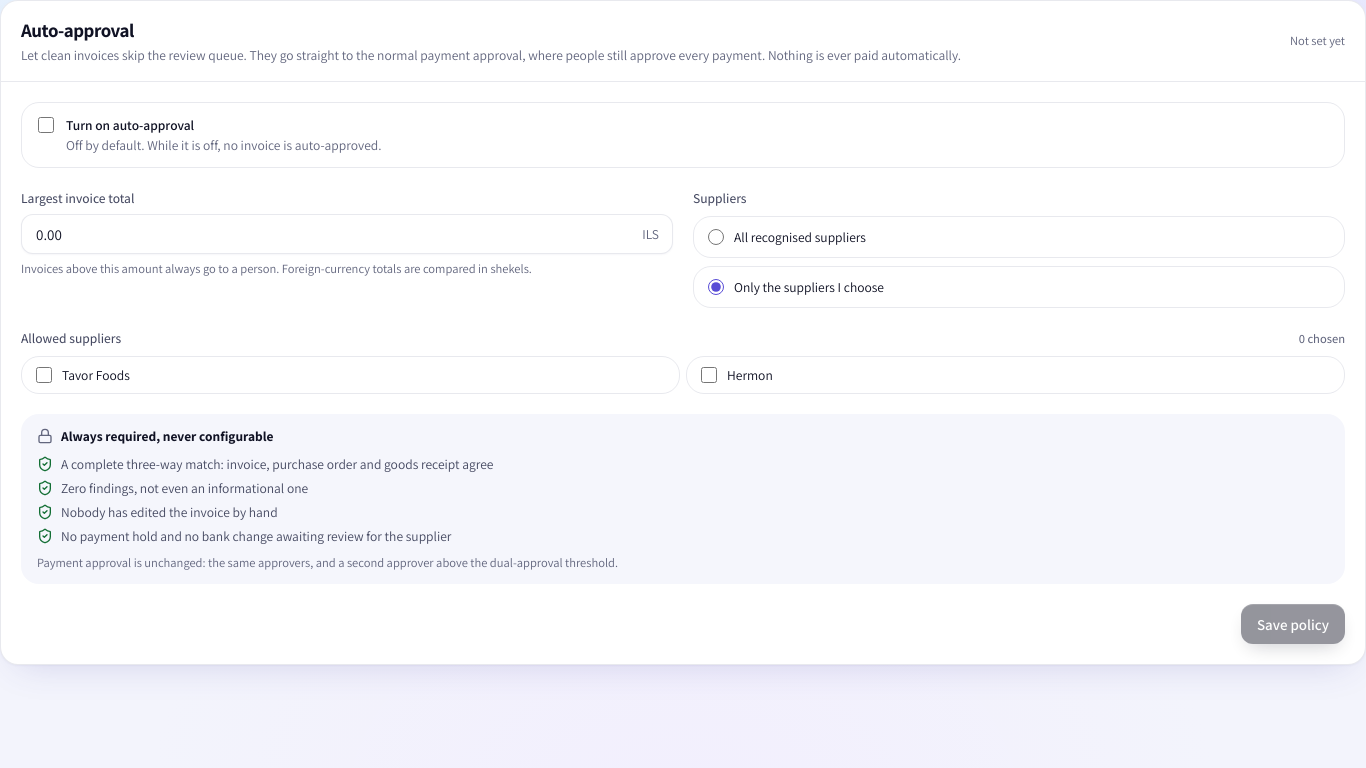
Test: auto-approval settings panel › rejects an amount that is not money before anything is sent
Click the checkbox labelled "Turn on auto-approval" at coordinates (46, 125), box [38, 117, 54, 133]
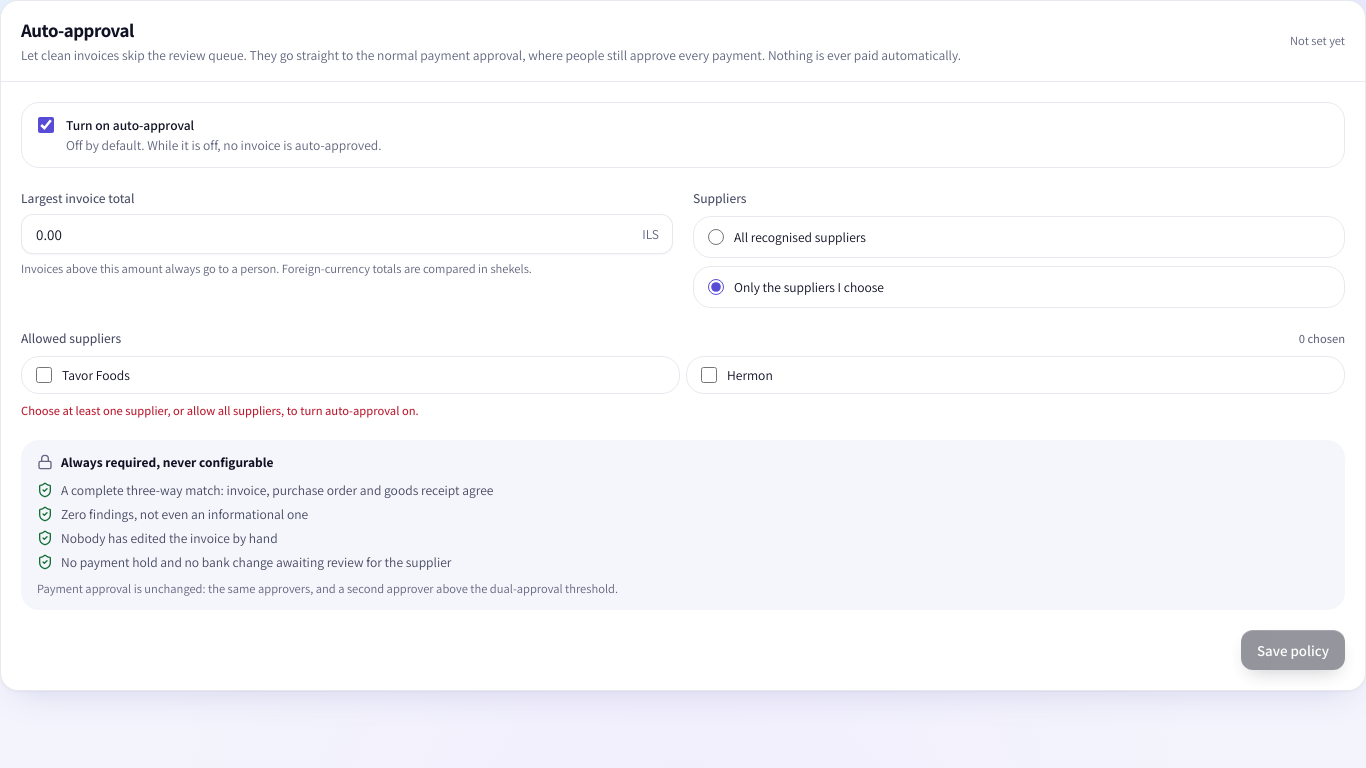
Click the radio button labelled "All recognised suppliers" at coordinates (716, 237), box [708, 229, 724, 245]
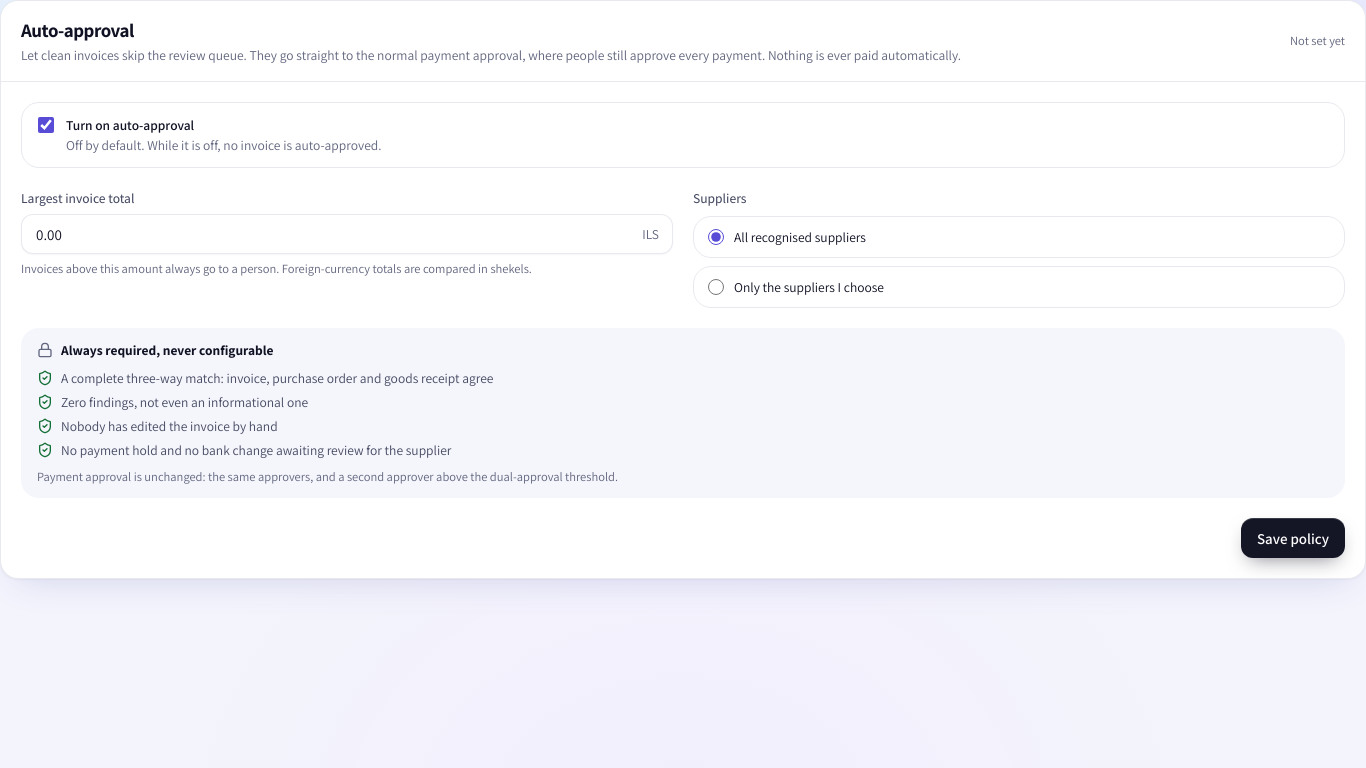
Replace the text in the field labelled "Largest invoice total" with "ten thousand" at coordinates (347, 234), box [21, 214, 673, 254]
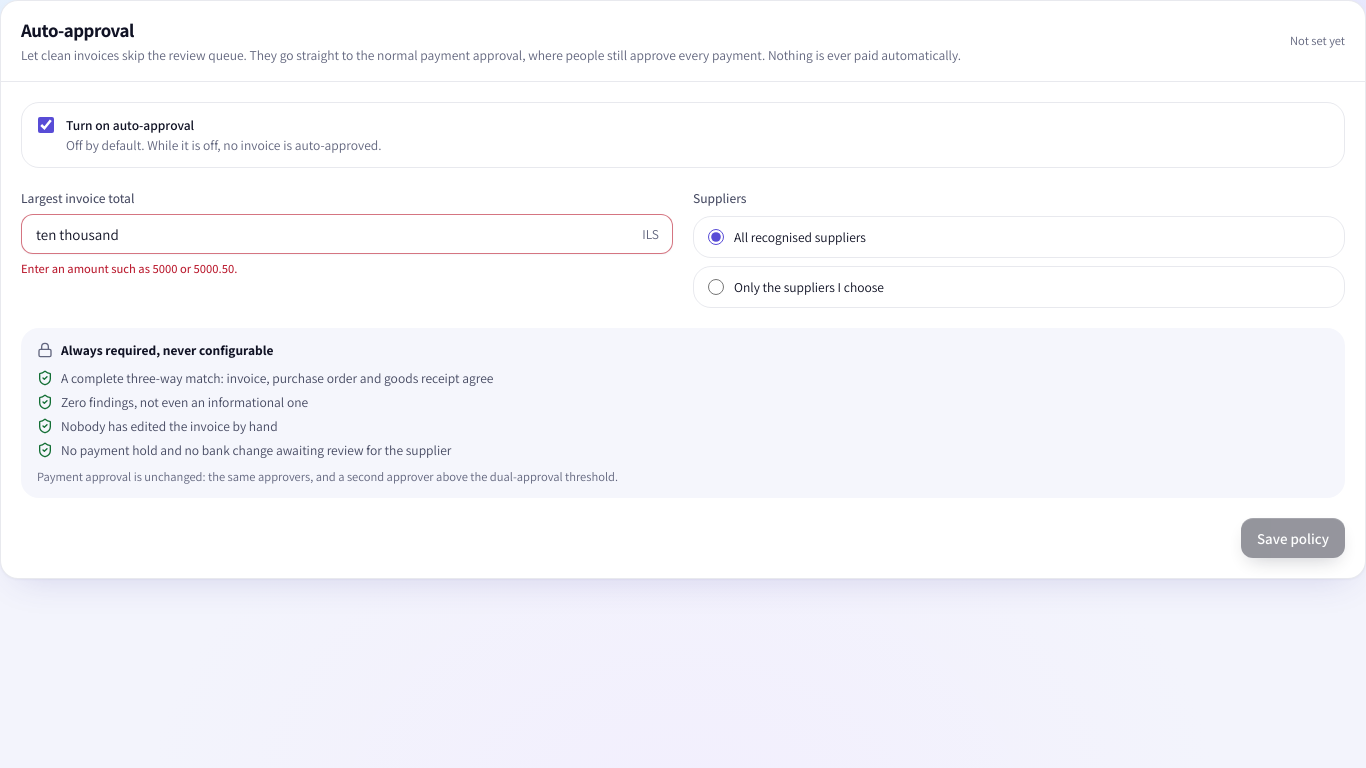
Check: the message shows "Enter an amount such as 5000", box [21, 260, 237, 277]
Check: the button "Save policy" is disabled, box [1241, 518, 1345, 558]
